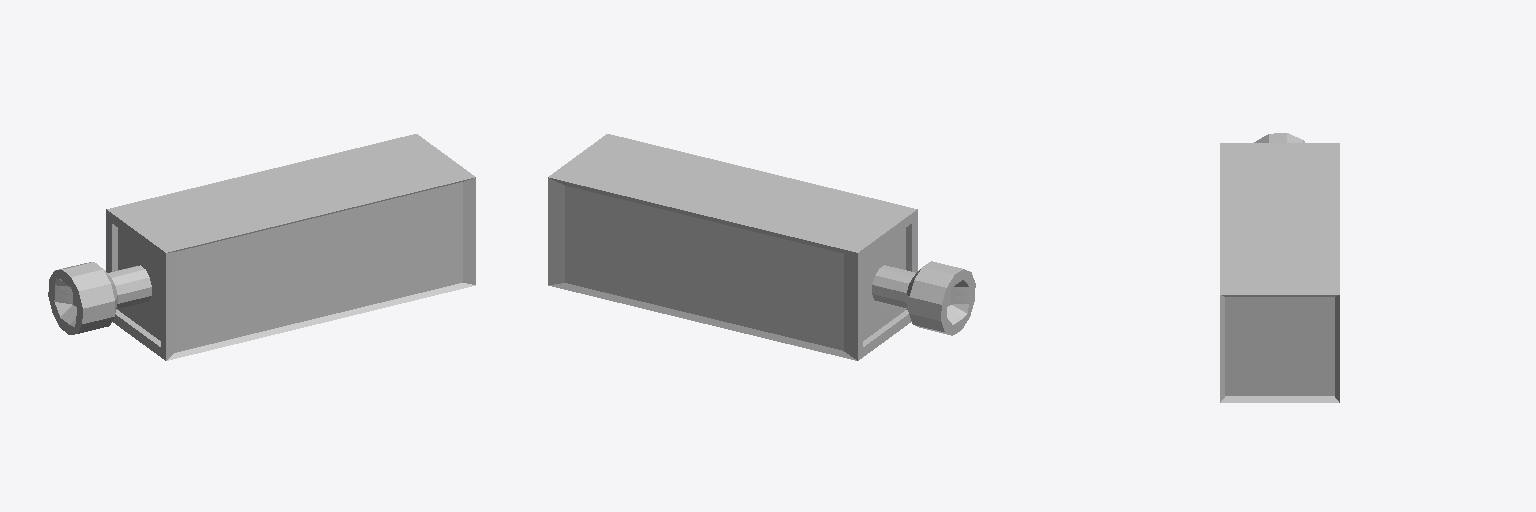
Rendered from Camera Head.obj.
3 views of the same model, side by side, from view 1: azimuth 30°, elevation 25°; view 2: azimuth 150°, elevation 25°; view 3: azimuth 270°, elevation 25° (orthographic).
Parts seen in each view (by area): view 1: camera_box_bit_Cube.004; view 2: camera_box_bit_Cube.004; view 3: camera_box_bit_Cube.004.
Boxes of the visible parts, <box> form: camera_box_bit_Cube.004: <box>48,134,475,360</box>; camera_box_bit_Cube.004: <box>548,134,975,360</box>; camera_box_bit_Cube.004: <box>1220,133,1339,402</box>.
Size of the model in its own units: 1.84 by 0.5 by 0.5.